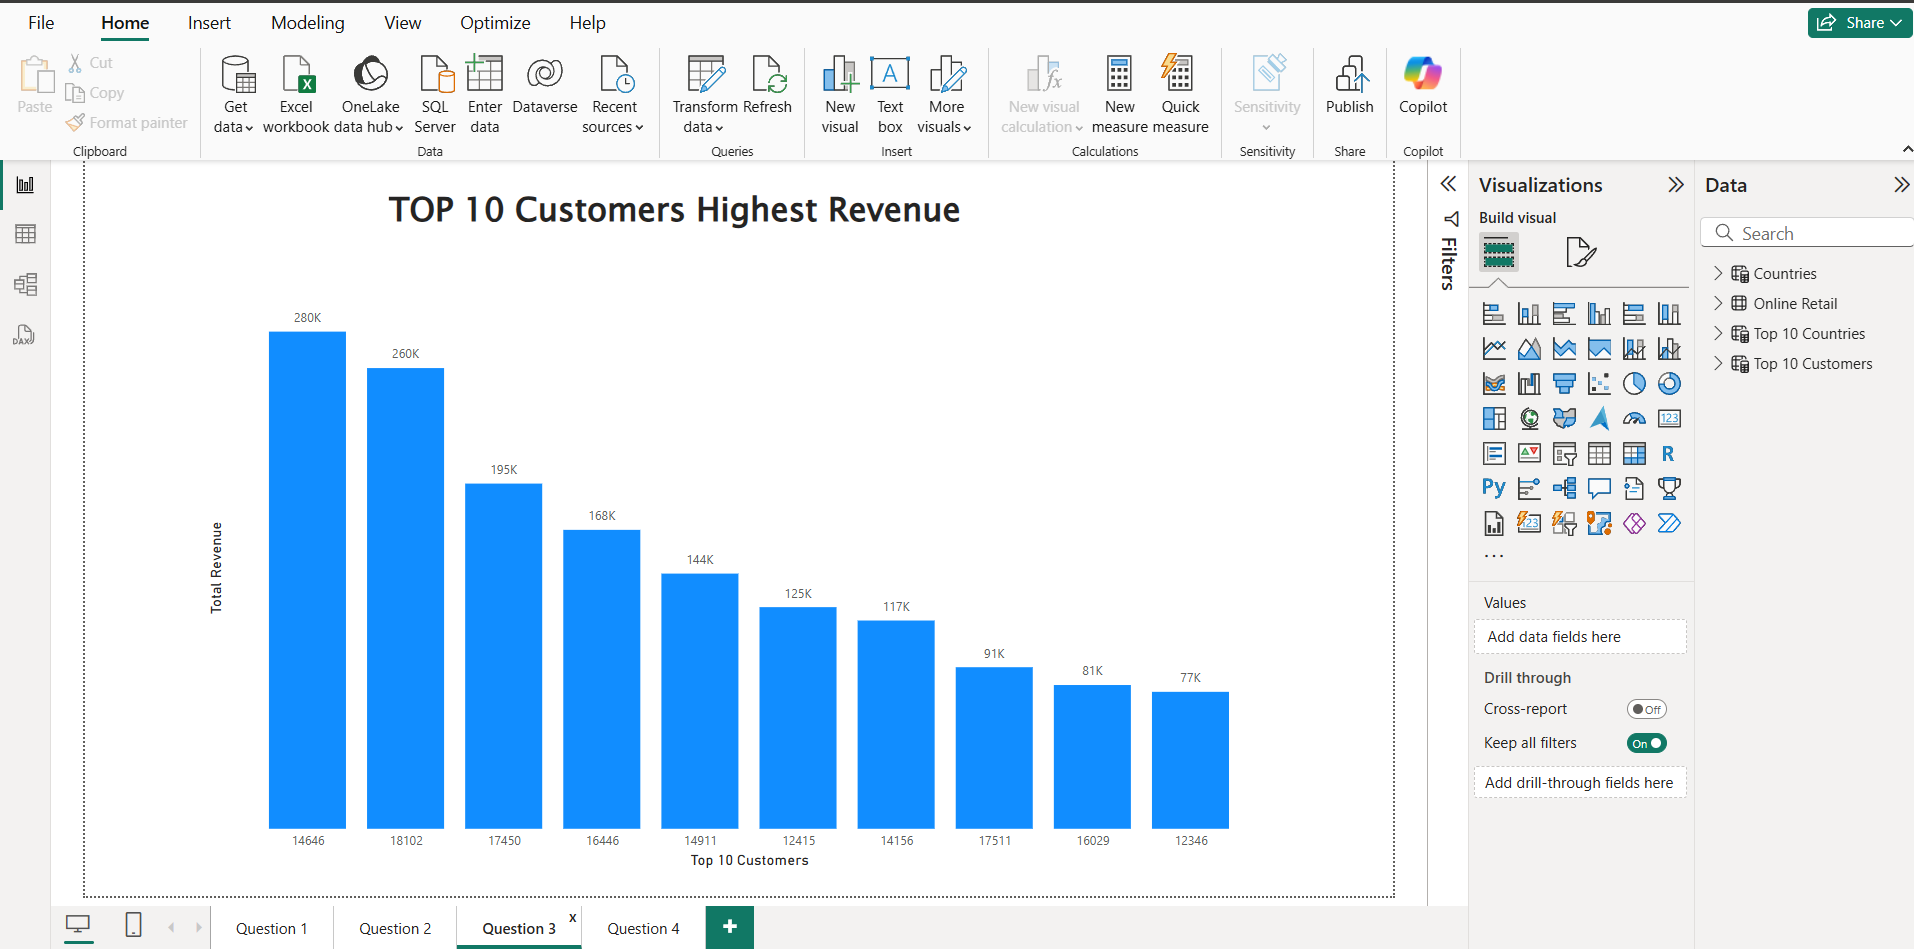

The page's visual inventory and layout, read from the dashboard file:
{"tool":"powerbi","page":{"name":"Question 3","canvas":[1280,720],"ordinal":2},"visuals":[{"type":"columnChart","fields":{"Category":["Top 10 Customers.CustomerID"],"Y":["Sum(Top 10 Customers.Total Revenue)"]},"box":[114.9,129.6,1049.2,568.6],"z":0},{"type":"textbox","box":[292.3,19.6,694.6,73.4],"z":1000}]}

Visuals, with their boxes on the page's 1280x720 design canvas (x1, y1, x2, y2). These are canvas units, not pixel positions in the 1914x949 screenshot, which may show the page scaled, cropped or inside an application window:
columnChart - Top 10 Customers.CustomerID x Sum(Top 10 Customers.Total Revenue): bbox=[115, 130, 1164, 698]
textbox: bbox=[292, 20, 987, 93]
